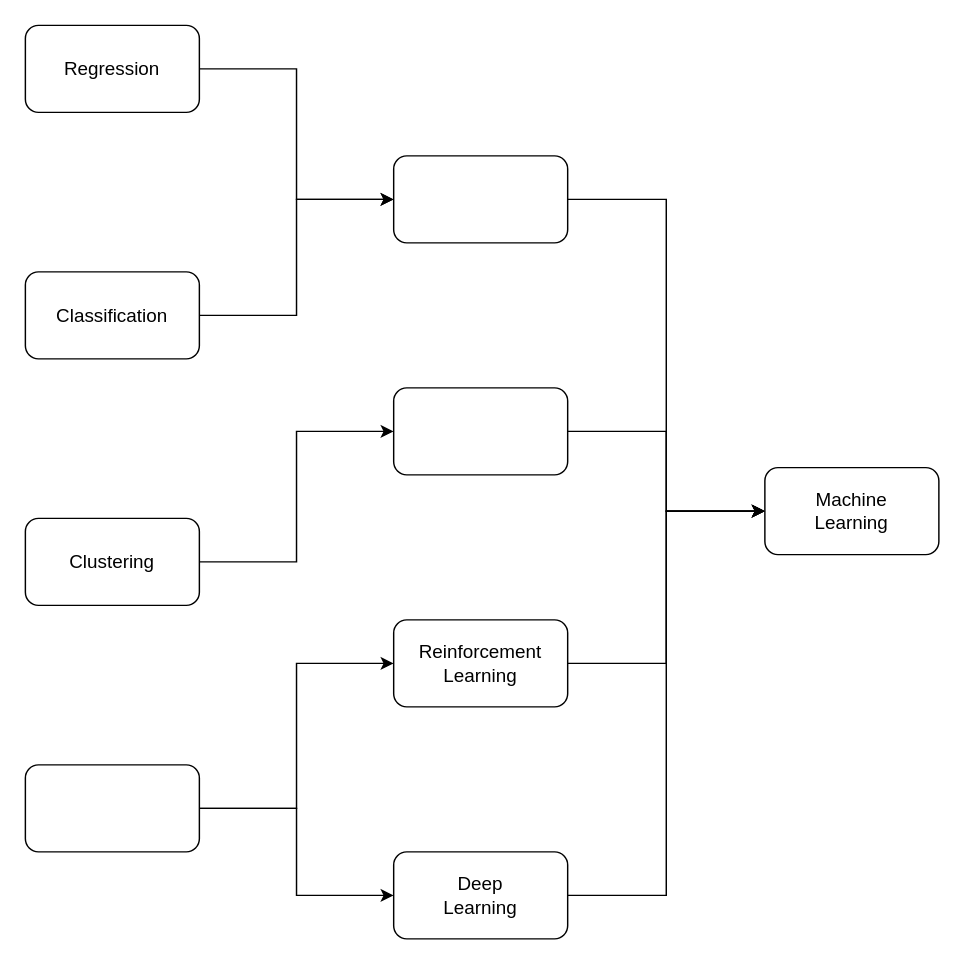
This 964x964 diagram has some shape labels left out. The shapes that lost their labels are listed below. From the top down, each one's box as (x1, y1, x2, y2) in pixels, then its label:
(392, 154, 568, 243): Supervised Learning
(392, 386, 568, 475): Unsupervised Learning
(24, 763, 199, 852): Forecasting
